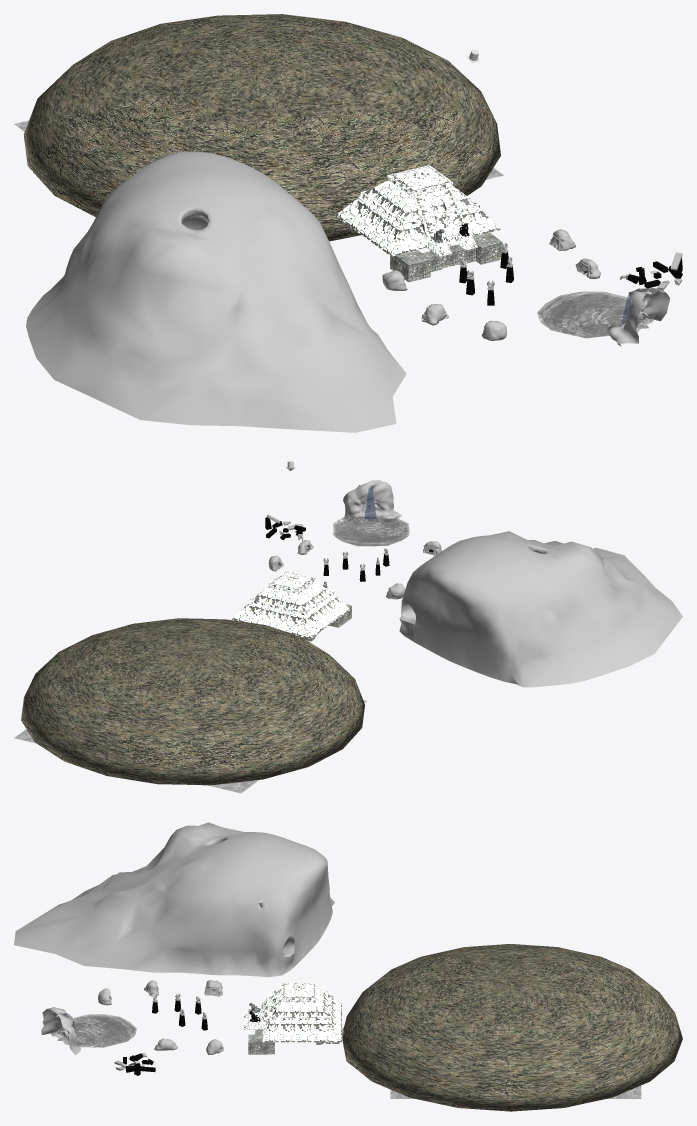
Rendered from Structures.FBX.
The picture shows the model from 3 angles, top to bottom: view 1: azimuth 30°, elevation 25°; view 2: azimuth 150°, elevation 25°; view 3: azimuth 270°, elevation 25°; orthographic projection. The views are drawn at different scales.
Visible parts, largest first — view 1: Dome, Cavern, Temple Outside, Water Hole Radial, Water Hole, Temple of Tizzleblat, Shrine Water, RuinStones; view 2: Cavern, Dome, Temple Outside, Water Hole Radial, Shrine Water, Water Hole, RuinStones; view 3: Cavern, Dome, Temple Outside, Water Hole Radial, Water Hole, Shrine Water, Temple of Tizzleblat, RuinStones.
Part boxes in pixels (bbox=[...]): Dome: bbox=[26, 151, 406, 432]; Cavern: bbox=[23, 14, 500, 241]; Temple Outside: bbox=[335, 165, 500, 256]; Water Hole Radial: bbox=[537, 291, 654, 337]; Water Hole: bbox=[539, 293, 645, 338]; Temple of Tizzleblat: bbox=[349, 173, 502, 282]; Shrine Water: bbox=[608, 288, 669, 346]; RuinStones: bbox=[619, 252, 682, 290]; Cavern: bbox=[21, 618, 364, 785]; Dome: bbox=[399, 531, 682, 687]; Temple Outside: bbox=[231, 571, 350, 638]; Water Hole Radial: bbox=[333, 514, 409, 546]; Shrine Water: bbox=[343, 480, 402, 521]; Water Hole: bbox=[335, 517, 407, 546]; RuinStones: bbox=[265, 514, 305, 540]; Cavern: bbox=[342, 944, 682, 1111]; Dome: bbox=[14, 822, 334, 977]; Temple Outside: bbox=[243, 983, 341, 1042]; Water Hole Radial: bbox=[55, 1014, 136, 1047]; Water Hole: bbox=[59, 1015, 134, 1047]; Shrine Water: bbox=[41, 1007, 81, 1054]; Temple of Tizzleblat: bbox=[248, 986, 343, 1054]; RuinStones: bbox=[114, 1053, 155, 1075].
Bounding box in the file's own units: 742 × 251 × 949.
